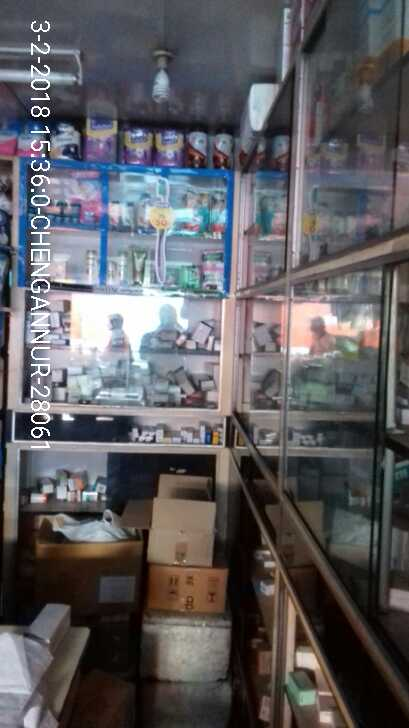vicks: (30, 195, 95, 225)
